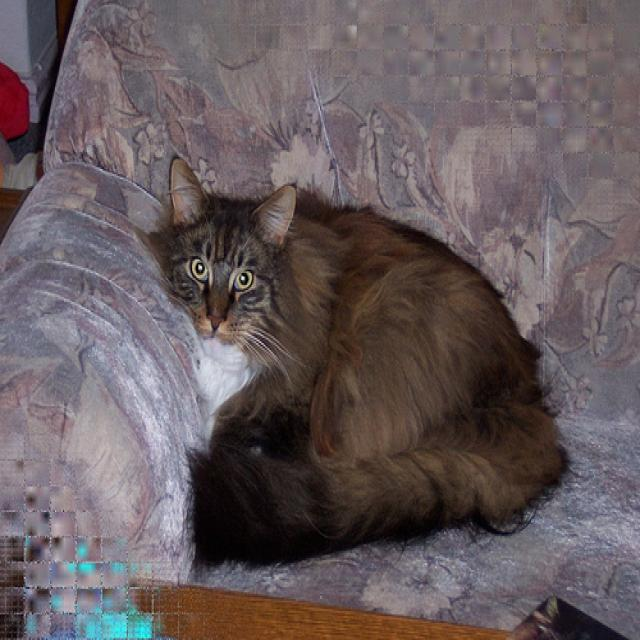left eye: (232, 266, 254, 292)
